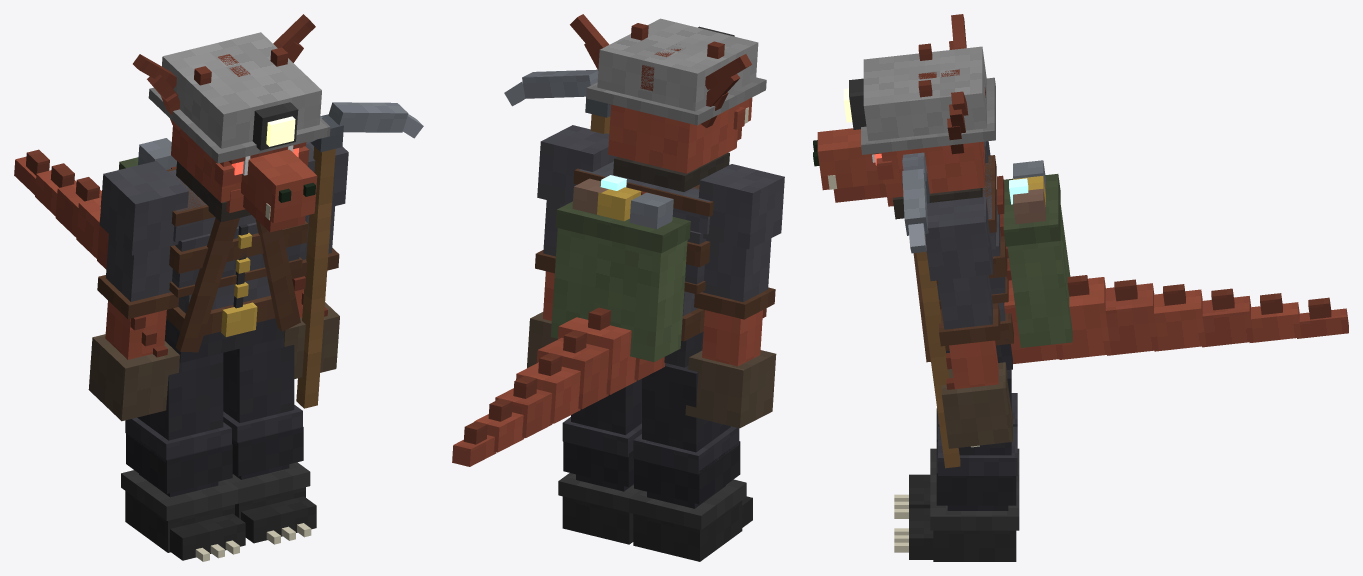
The model's file is lizard_mineur_v3.glb.
3 views of the same model, side by side, from view 1: azimuth 30°, elevation 25°; view 2: azimuth 150°, elevation 25°; view 3: azimuth 270°, elevation 25° (orthographic). The views are drawn at different scales.
Visible parts, largest first — view 1: Head, Torso, ArmR, LegR, LegL, HandL, ArmL, Root; view 2: Torso, Head, ArmR, LegR, LegL, ArmL, HandL; view 3: Torso, Head, ArmL, LegL, HandL, LegR, Root.
Part boxes in pixels (x1,y1,x2,y2): Head: (133,14,330,232); Torso: (14,138,308,362); ArmR: (88,161,188,421); LegR: (121,353,245,560); LegL: (223,338,316,543); HandL: (296,102,423,408); ArmL: (284,143,348,378); Root: (195,523,311,561); Torso: (452,161,713,466); Head: (570,14,766,191); ArmR: (685,164,784,428); LegR: (629,363,752,561); LegL: (558,379,641,544); ArmL: (527,125,616,367); HandL: (504,69,610,133); Torso: (913,155,1348,369); Head: (813,14,995,219); ArmL: (925,197,1012,448); LegL: (909,369,1019,561); HandL: (902,152,960,468); LegR: (909,393,1019,508); Root: (894,494,908,552).
Size of the model in its own units: 1.03 by 1.72 by 1.75.
41 materials, 41 textured.
